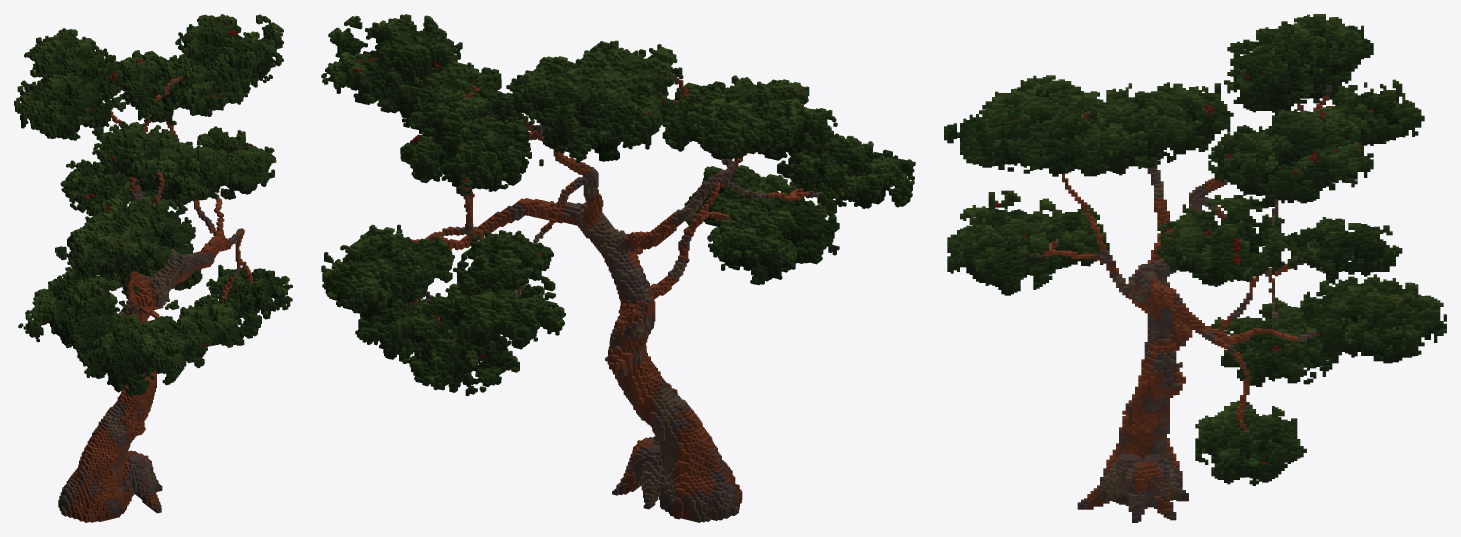
Rendered from arvore_torta_floresta_01_LOD0.fbx.
The picture shows the model from 3 angles, left to right: view 1: azimuth 30°, elevation 25°; view 2: azimuth 150°, elevation 25°; view 3: azimuth 270°, elevation 25°; orthographic projection. The views are drawn at different scales.
Visible parts, largest first — view 1: arvore_torta_floresta_01_LOD0; view 2: arvore_torta_floresta_01_LOD0; view 3: arvore_torta_floresta_01_LOD0.
Part boxes in pixels (<box>): arvore_torta_floresta_01_LOD0: <box>14,14,292,522</box>; arvore_torta_floresta_01_LOD0: <box>321,14,915,522</box>; arvore_torta_floresta_01_LOD0: <box>944,14,1446,522</box>.
Bounding box in the file's own units: 1019 × 1075 × 987.
